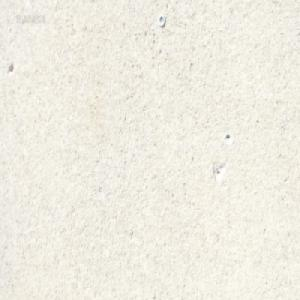Washer: (157, 14, 165, 28)
